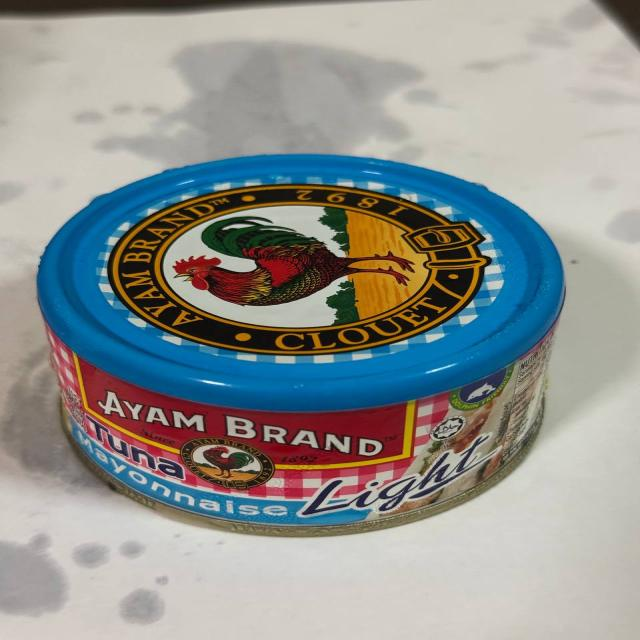tuna-can: (24, 143, 584, 550)
